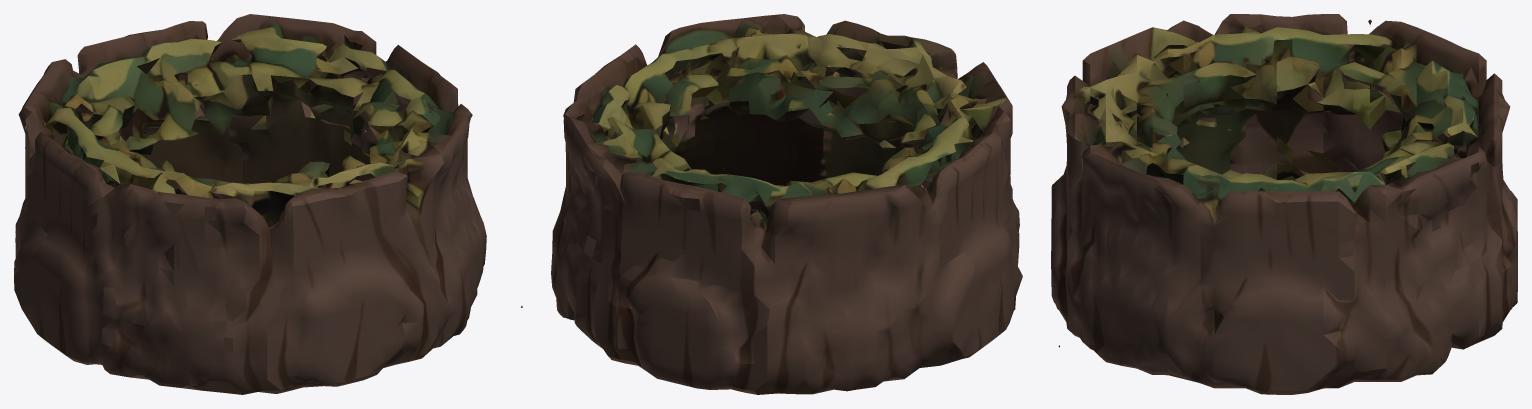
Rendered from PlantLeafPit.glb.
The picture shows the model from 3 angles, left to right: view 1: azimuth 30°, elevation 25°; view 2: azimuth 150°, elevation 25°; view 3: azimuth 270°, elevation 25°; orthographic projection.
Parts seen in each view (by area): view 1: tmplrlzvar8.ply; view 2: tmplrlzvar8.ply; view 3: tmplrlzvar8.ply.
Boxes of the visible parts, box(x1,y1,x2,y2) form: tmplrlzvar8.ply: box(14, 14, 522, 394); tmplrlzvar8.ply: box(551, 14, 1022, 394); tmplrlzvar8.ply: box(1051, 14, 1517, 394).
Size of the model in its own units: 1.86 by 0.9058 by 1.84.
1 material, 1 textured.
